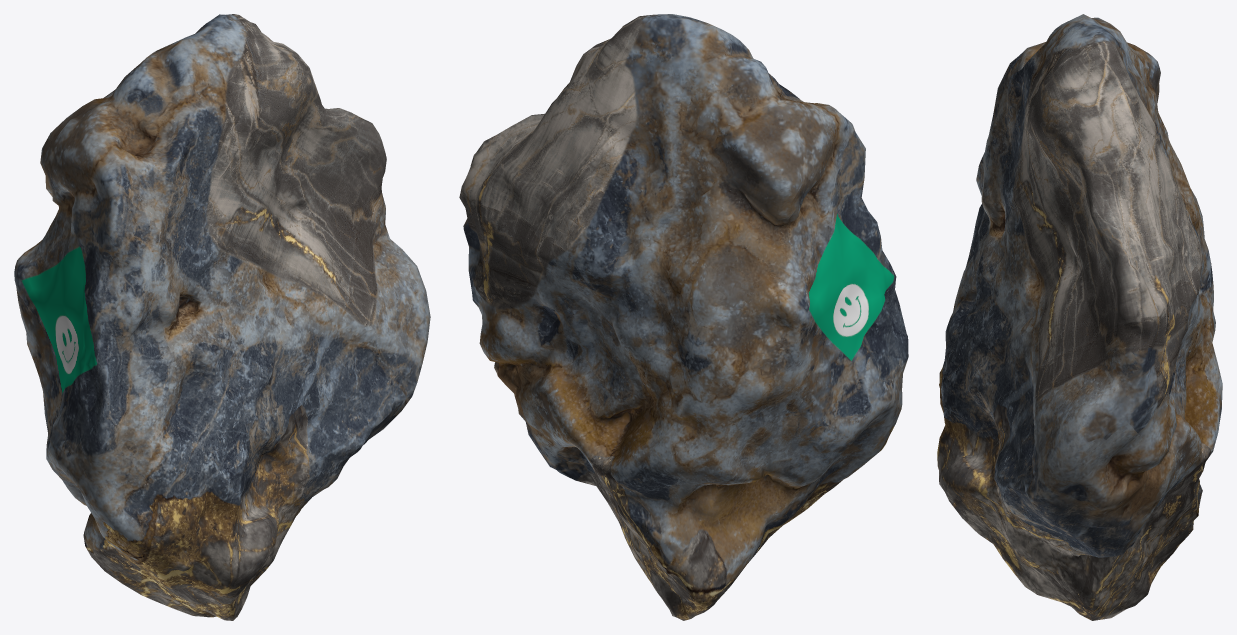
The model's file is RockTest4.gltf.
The picture shows the model from 3 angles, left to right: view 1: azimuth 30°, elevation 25°; view 2: azimuth 150°, elevation 25°; view 3: azimuth 270°, elevation 25°; orthographic projection.
Visible parts, largest first — view 1: Model_LP; view 2: Model_LP; view 3: Model_LP.
Part boxes in pixels (left/top/right/bottom): Model_LP: left=14, top=14, right=430, bottom=620; Model_LP: left=459, top=14, right=908, bottom=620; Model_LP: left=937, top=14, right=1222, bottom=620.
Size of the model in its own units: 1.21 by 1.75 by 0.7594.
Materials: 1 (1 with a texture image).
